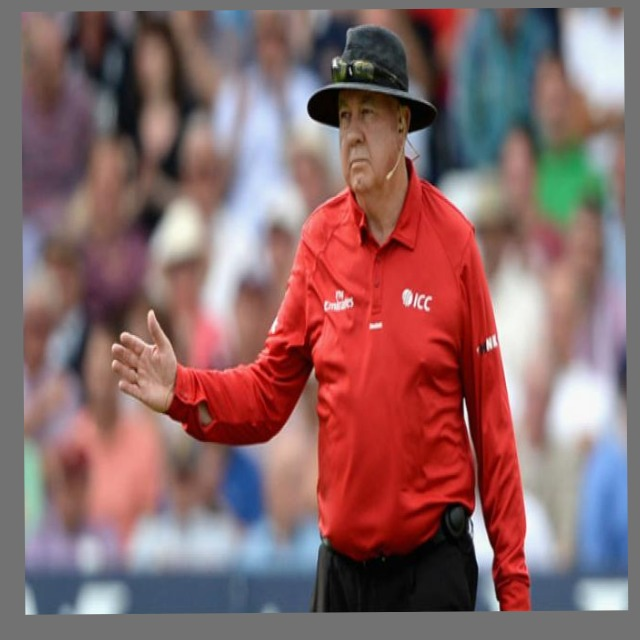No_Ball: (96, 14, 536, 614)
